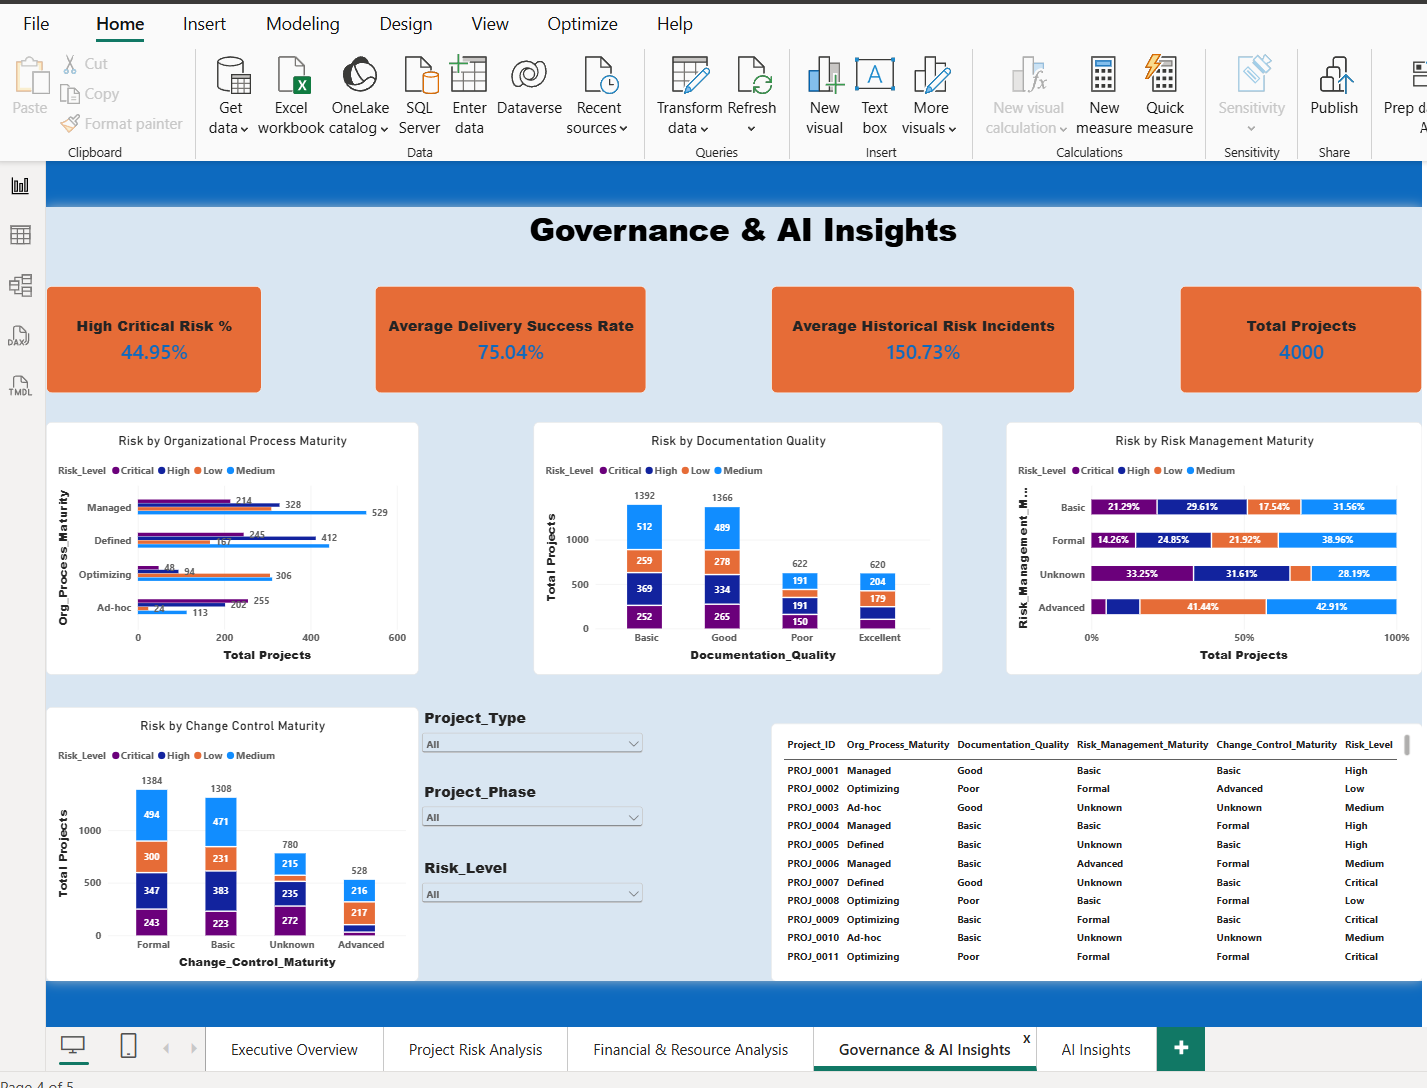

What the dashboard file says about the page in this screenshot:
{"tool":"powerbi","page":{"name":"Governance & AI Insights","canvas":[1920,1080],"ordinal":3},"visuals":[{"type":"textbox","box":[10.2,0,1910.2,110.1],"z":0},{"type":"cardVisual","fields":{"Data":["Project_Risk_Data.High Critical Risk %"]},"box":[0,110.1,301.7,150.9],"z":1000},{"type":"cardVisual","fields":{"Data":["Project_Risk_Data.Average Delivery Success Rate"]},"box":[458.7,110.1,379.2,150.9],"z":2000},{"type":"cardVisual","fields":{"Data":["Project_Risk_Data.Average Historical Risk Incidents"]},"box":[1011.2,110.1,424,150.9],"z":3000},{"type":"cardVisual","fields":{"Data":["Project_Risk_Data.Total Projects"]},"box":[1582,110.1,338.4,150.9],"z":4000},{"type":"clusteredBarChart","title":"Risk by Organizational Process Maturity","fields":{"Category":["Project_Risk_Data.Org_Process_Maturity"],"Series":["Project_Risk_Data.Risk_Level"],"Y":["Project_Risk_Data.Total Projects"]},"box":[0,299.7,519.9,352.7],"z":5000},{"type":"columnChart","title":"Risk by Documentation Quality","fields":{"Category":["Project_Risk_Data.Documentation_Quality"],"Series":["Project_Risk_Data.Risk_Level"],"Y":["Project_Risk_Data.Total Projects"]},"box":[680.9,299.7,570.8,352.7],"z":6000},{"type":"hundredPercentStackedBarChart","title":"Risk by Risk Management Maturity","fields":{"Category":["Project_Risk_Data.Risk_Management_Maturity"],"Series":["Project_Risk_Data.Risk_Level"],"Y":["Project_Risk_Data.Total Projects"]},"box":[1339.4,299.7,581,352.7],"z":7000},{"type":"columnChart","title":"Risk by Change Control Maturity","fields":{"Category":["Project_Risk_Data.Change_Control_Maturity"],"Series":["Project_Risk_Data.Risk_Level"],"Y":["Project_Risk_Data.Total Projects"]},"box":[0,697.2,519.9,383.3],"z":8000},{"type":"tableEx","fields":{"Values":["Project_Risk_Data.Project_ID","Project_Risk_Data.Org_Process_Maturity","Project_Risk_Data.Documentation_Quality","Project_Risk_Data.Risk_Management_Maturity","Project_Risk_Data.Change_Control_Maturity","Project_Risk_Data.Risk_Level"]},"box":[1011.2,719.6,909.2,360.8],"z":9000},{"type":"slicer","fields":{"Values":["Project_Risk_Data.Project_Type"]},"box":[519.9,697.2,318,126.4],"z":9001},{"type":"slicer","fields":{"Values":["Project_Risk_Data.Project_Phase"]},"box":[519.9,801.2,318,254.8],"z":9002},{"type":"slicer","fields":{"Values":["Project_Risk_Data.Risk_Level"]},"box":[519.9,907.2,318,150.9],"z":9003}]}

Visuals, with their boxes on the page's 1920x1080 design canvas (x1, y1, x2, y2). These are canvas units, not pixel positions in the 1427x1088 screenshot, which may show the page scaled, cropped or inside an application window:
textbox: (left=10, top=0, right=1920, bottom=110)
cardVisual - Project_Risk_Data.High Critical Risk %: (left=0, top=110, right=302, bottom=261)
cardVisual - Project_Risk_Data.Average Delivery Success Rate: (left=459, top=110, right=838, bottom=261)
cardVisual - Project_Risk_Data.Average Historical Risk Incidents: (left=1011, top=110, right=1435, bottom=261)
cardVisual - Project_Risk_Data.Total Projects: (left=1582, top=110, right=1920, bottom=261)
"Risk by Organizational Process Maturity" clusteredBarChart: (left=0, top=300, right=520, bottom=652)
"Risk by Documentation Quality" columnChart: (left=681, top=300, right=1252, bottom=652)
"Risk by Risk Management Maturity" hundredPercentStackedBarChart: (left=1339, top=300, right=1920, bottom=652)
"Risk by Change Control Maturity" columnChart: (left=0, top=697, right=520, bottom=1080)
tableEx - Project_Risk_Data.Project_ID x Project_Risk_Data.Org_Process_Maturity: (left=1011, top=720, right=1920, bottom=1080)
slicer - Project_Risk_Data.Project_Type: (left=520, top=697, right=838, bottom=824)
slicer - Project_Risk_Data.Project_Phase: (left=520, top=801, right=838, bottom=1056)
slicer - Project_Risk_Data.Risk_Level: (left=520, top=907, right=838, bottom=1058)
